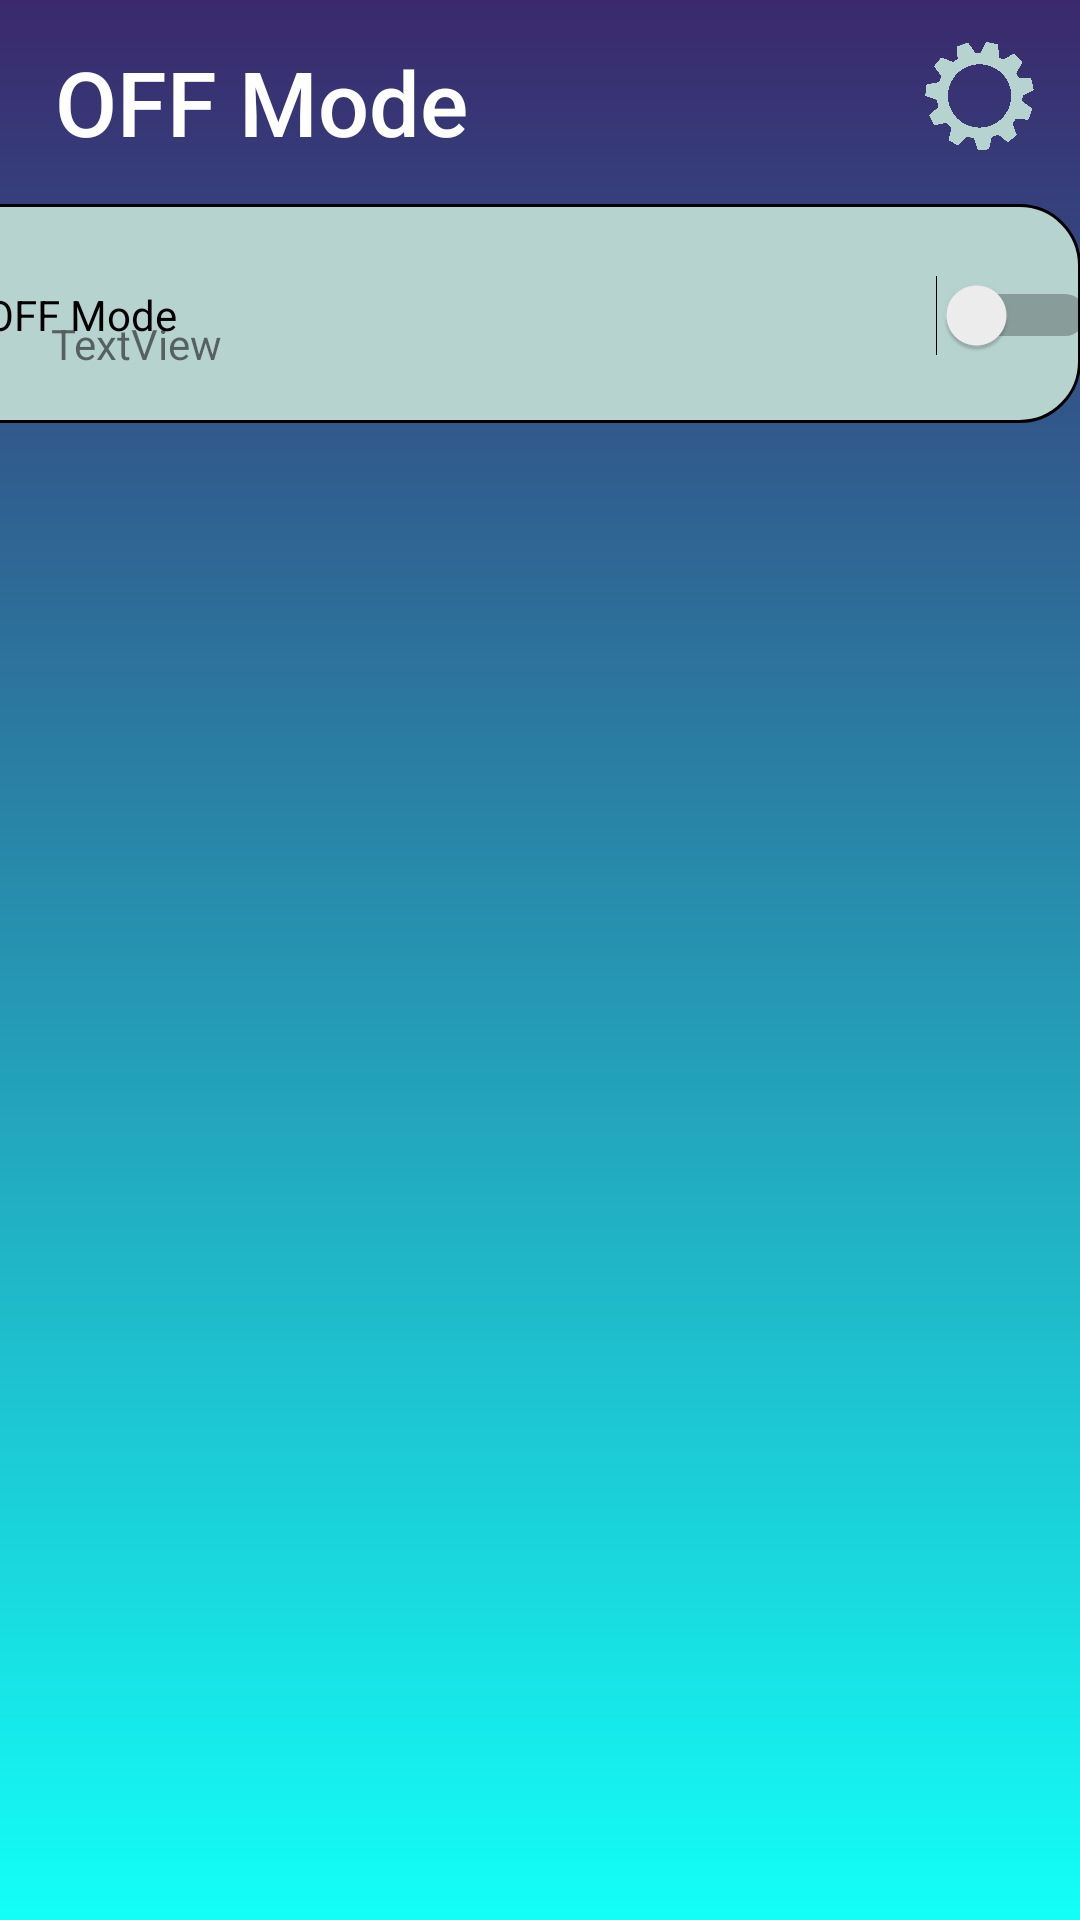

Icons on this 1080*1920 Android screen, each with the point to tap as (x,y):
gearcustom: (979,96)
